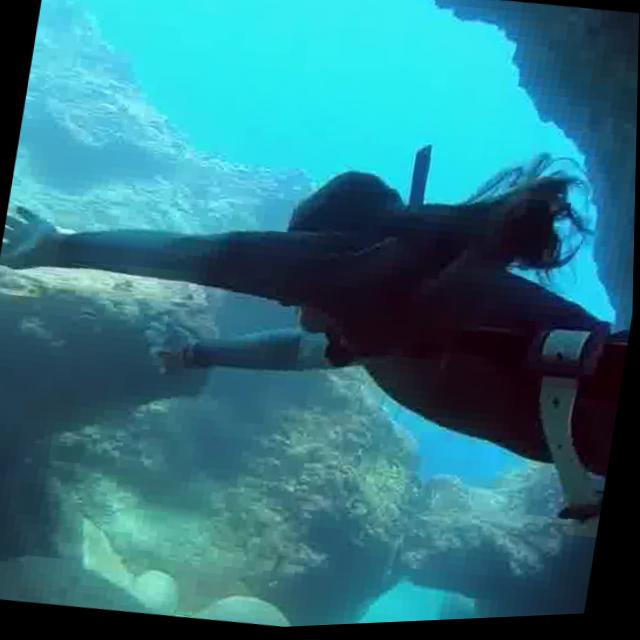human: (0, 78, 638, 640)
